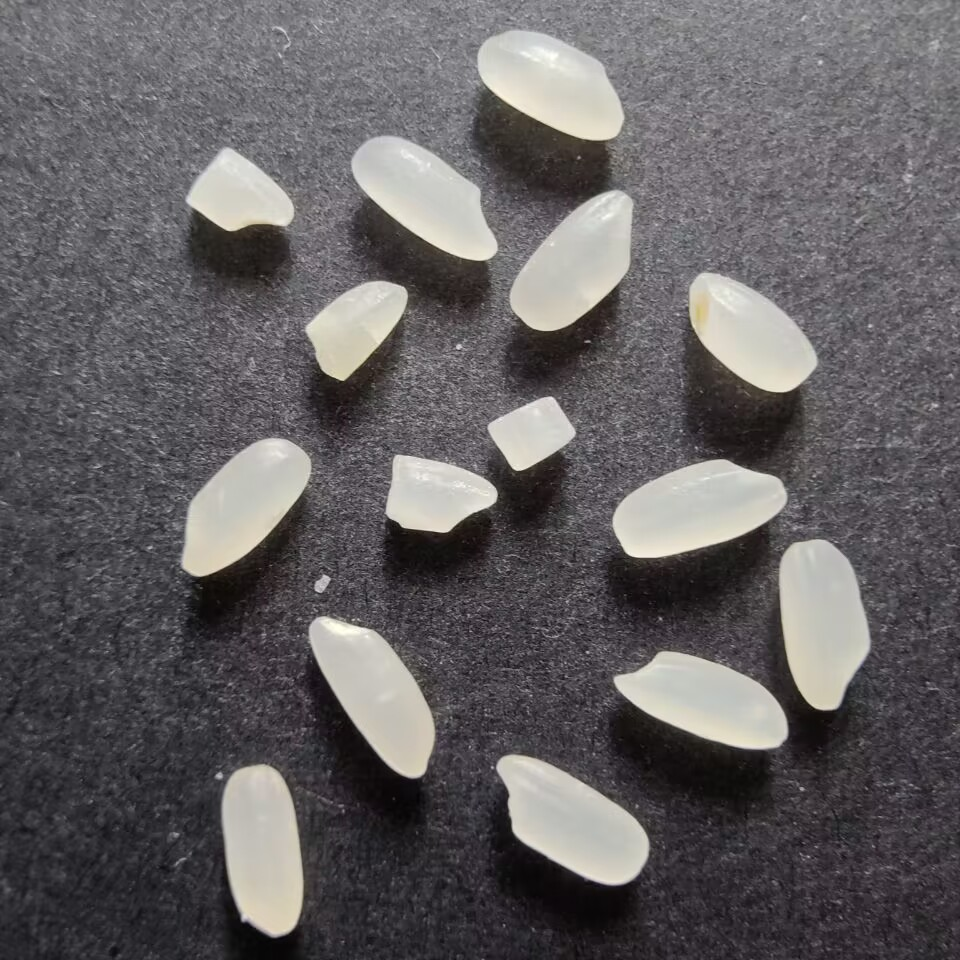broken: (301, 278, 414, 385), (182, 144, 296, 237), (384, 450, 504, 536), (482, 393, 578, 475)
rice: (303, 612, 441, 782), (493, 749, 657, 888), (173, 435, 313, 584), (607, 449, 789, 562), (609, 645, 791, 757), (509, 183, 640, 335), (349, 135, 502, 264), (471, 26, 631, 144), (774, 538, 873, 714), (686, 268, 822, 395), (217, 760, 309, 936)
